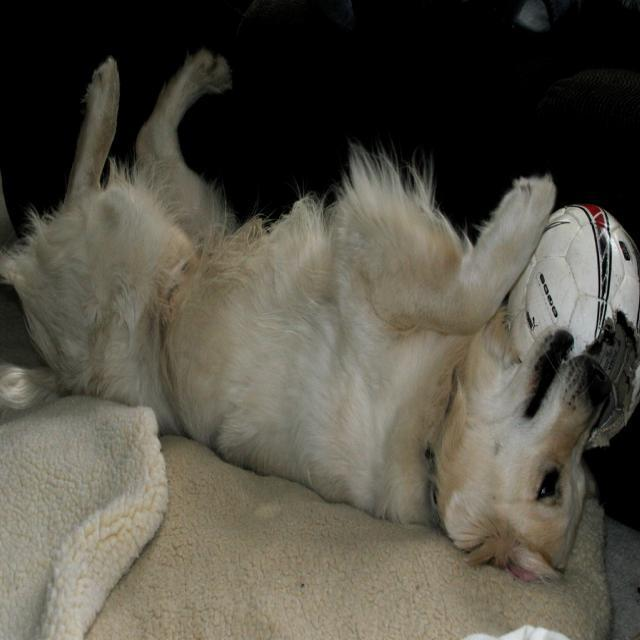ball: (506, 202, 640, 448)
